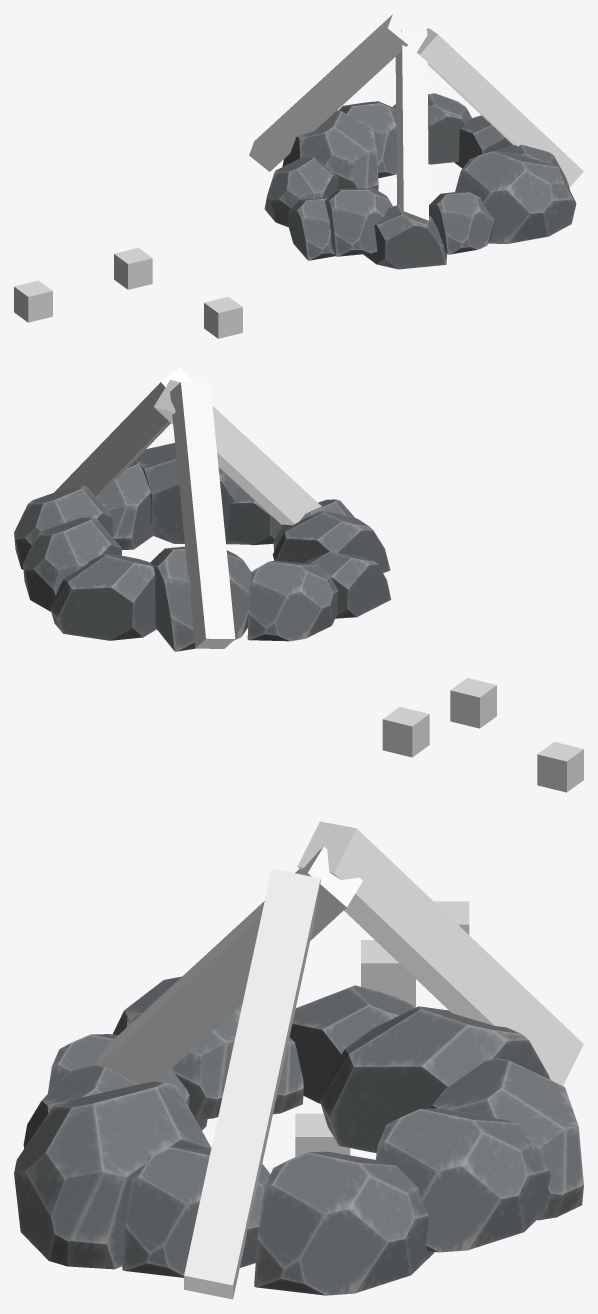
File: Fire.glb
3 renders of one model, top to bottom at view 1: azimuth 30°, elevation 25°; view 2: azimuth 150°, elevation 25°; view 3: azimuth 270°, elevation 25°, orthographic. The views are drawn at different scales.
Parts seen in each view (by area): view 1: defaultMaterial.010, Cube.011, Cube.012, Cube.010, defaultMaterial.006, defaultMaterial.012, defaultMaterial.003, defaultMaterial.001, defaultMaterial.005, defaultMaterial.011, defaultMaterial.013, defaultMaterial.007 (+5 smaller); view 2: Cube.011, defaultMaterial.007, defaultMaterial.005, Cube.012, defaultMaterial.006, defaultMaterial.011, Cube.010, defaultMaterial.003, defaultMaterial.010, defaultMaterial.008, defaultMaterial.013, defaultMaterial.009 (+5 smaller); view 3: Cube.010, defaultMaterial.010, defaultMaterial.008, Cube.011, defaultMaterial.011, defaultMaterial.006, Cube.012, defaultMaterial.007, defaultMaterial.009, defaultMaterial.005, defaultMaterial.003, defaultMaterial.001 (+5 smaller).
Boxes of the visible parts, left/top/right/bottom form: defaultMaterial.010: left=455, top=151, right=576, bottom=243; Cube.011: left=249, top=14, right=411, bottom=171; Cube.012: left=395, top=29, right=428, bottom=220; Cube.010: left=417, top=28, right=583, bottom=187; defaultMaterial.006: left=282, top=110, right=378, bottom=190; defaultMaterial.012: left=363, top=204, right=446, bottom=269; defaultMaterial.003: left=325, top=188, right=392, bottom=256; defaultMaterial.001: left=429, top=191, right=494, bottom=254; defaultMaterial.005: left=264, top=156, right=338, bottom=227; defaultMaterial.011: left=392, top=93, right=471, bottom=164; defaultMaterial.013: left=288, top=197, right=335, bottom=260; defaultMaterial.007: left=339, top=101, right=396, bottom=178; Cube.011: left=170, top=382, right=235, bottom=648; defaultMaterial.007: left=50, top=554, right=156, bottom=640; defaultMaterial.005: left=247, top=560, right=337, bottom=641; Cube.012: left=154, top=379, right=321, bottom=525; defaultMaterial.006: left=150, top=546, right=250, bottom=651; defaultMaterial.011: left=23, top=517, right=121, bottom=611; Cube.010: left=54, top=367, right=191, bottom=496; defaultMaterial.003: left=272, top=511, right=390, bottom=572; defaultMaterial.010: left=134, top=443, right=248, bottom=544; defaultMaterial.008: left=14, top=486, right=112, bottom=569; defaultMaterial.013: left=304, top=551, right=391, bottom=618; defaultMaterial.009: left=95, top=462, right=155, bottom=549; Cube.010: left=184, top=868, right=320, bottom=1299; defaultMaterial.010: left=14, top=1081, right=211, bottom=1269; defaultMaterial.008: left=254, top=1151, right=434, bottom=1295; Cube.011: left=297, top=821, right=583, bottom=1085; defaultMaterial.011: left=375, top=1108, right=550, bottom=1252; defaultMaterial.006: left=320, top=1006, right=549, bottom=1153; Cube.012: left=94, top=846, right=362, bottom=1084; defaultMaterial.007: left=430, top=1058, right=583, bottom=1220; defaultMaterial.009: left=122, top=1147, right=270, bottom=1277; defaultMaterial.005: left=289, top=985, right=414, bottom=1103; defaultMaterial.003: left=113, top=976, right=241, bottom=1119; defaultMaterial.001: left=23, top=1064, right=137, bottom=1148.
Bounding box in the file's own units: 1.45 × 0.7407 × 0.7435.
5 materials, 1 textured.
